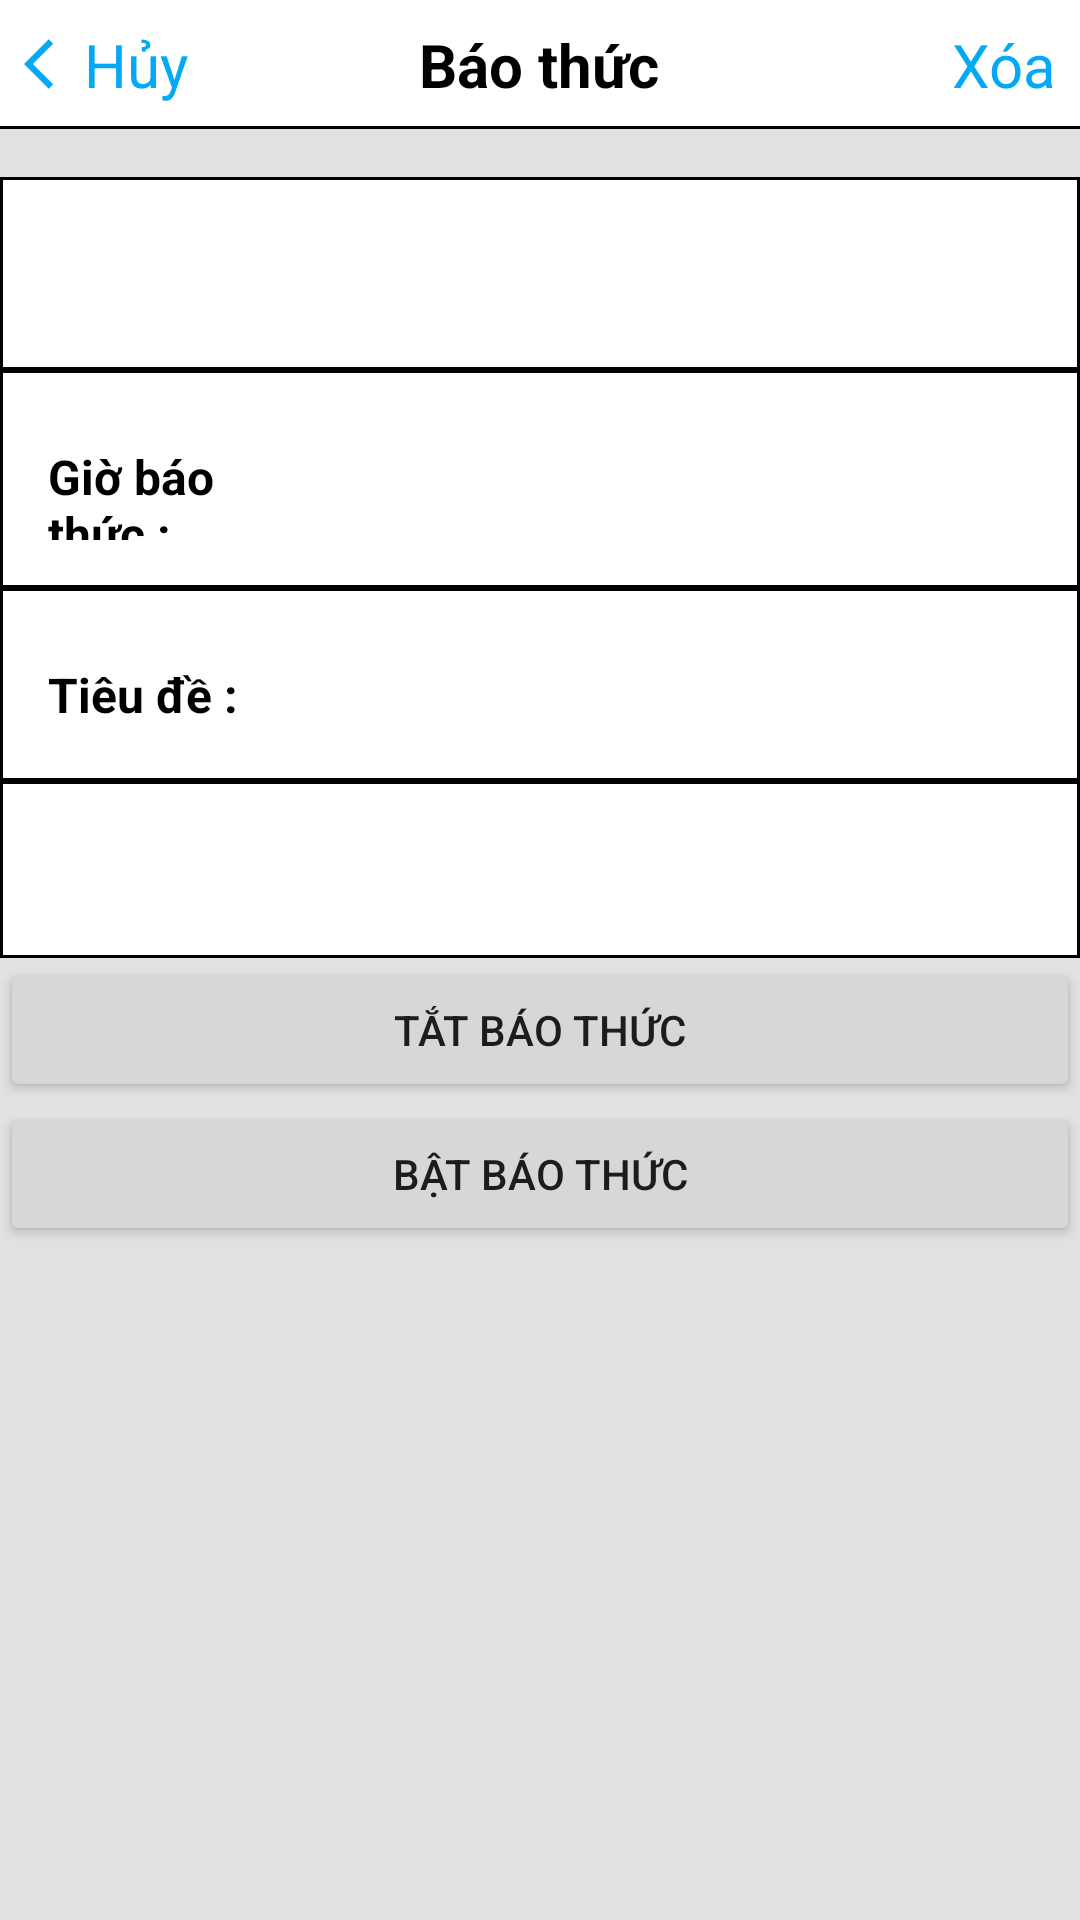

Named icons in this screenshot (1080x1920) and their centers, (x,y):
arrow back: (38,64)
